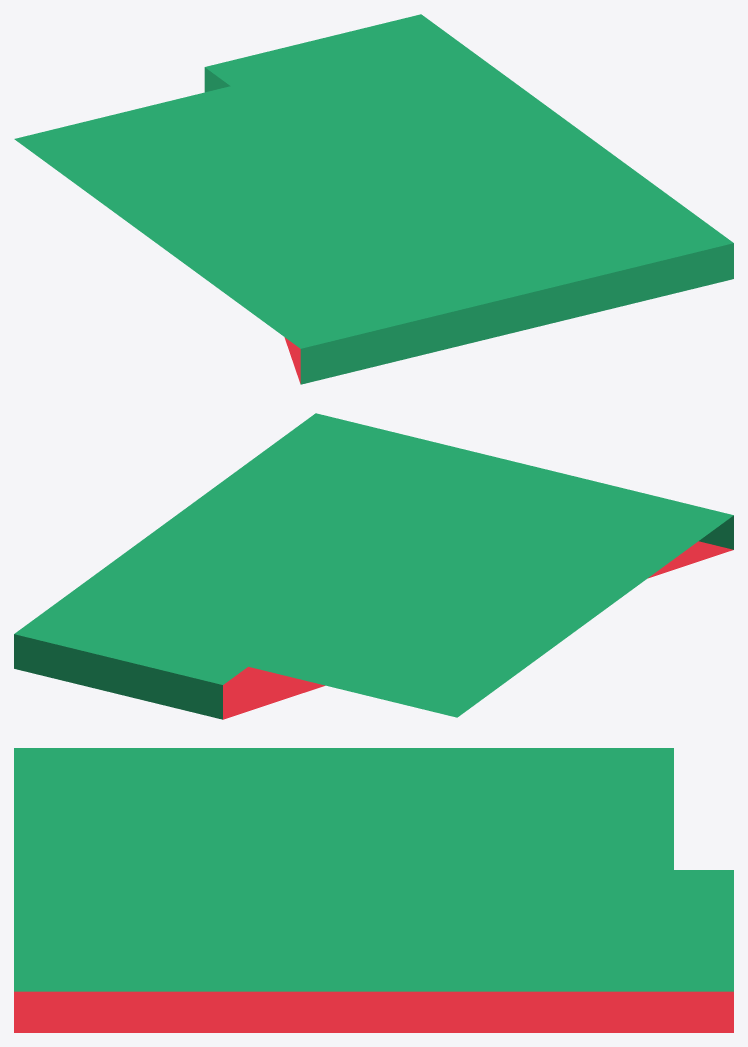
Rendered from wallRight_base (1).FBX.
The picture shows the model from 3 angles, top to bottom: view 1: azimuth 30°, elevation 25°; view 2: azimuth 150°, elevation 25°; view 3: azimuth 270°, elevation 25°; orthographic projection. The views are drawn at different scales.
Visible parts, largest first — view 1: wallRight; view 2: wallRight; view 3: wallRight.
Part boxes in pixels (x1,y1,x2,y2): wallRight: (14, 14, 733, 384); wallRight: (14, 413, 733, 719); wallRight: (14, 748, 733, 1032).
Size of the model in its own units: 79.99 by 6.33 by 99.99.
